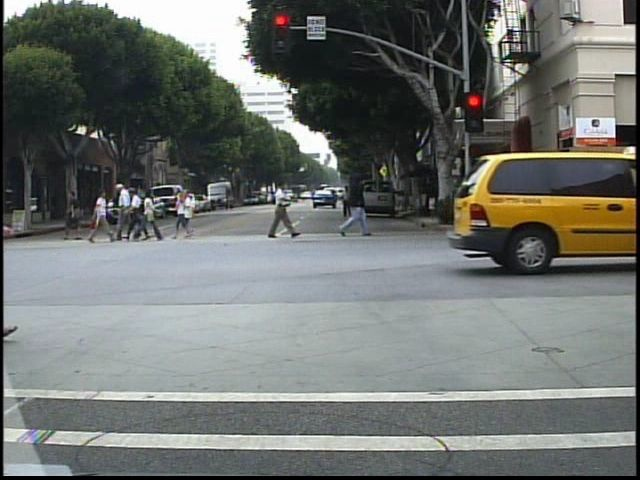person: (336, 165, 378, 243), (266, 180, 295, 240), (85, 188, 113, 250), (139, 187, 161, 245), (116, 179, 133, 245), (64, 186, 84, 241), (132, 185, 144, 244)
